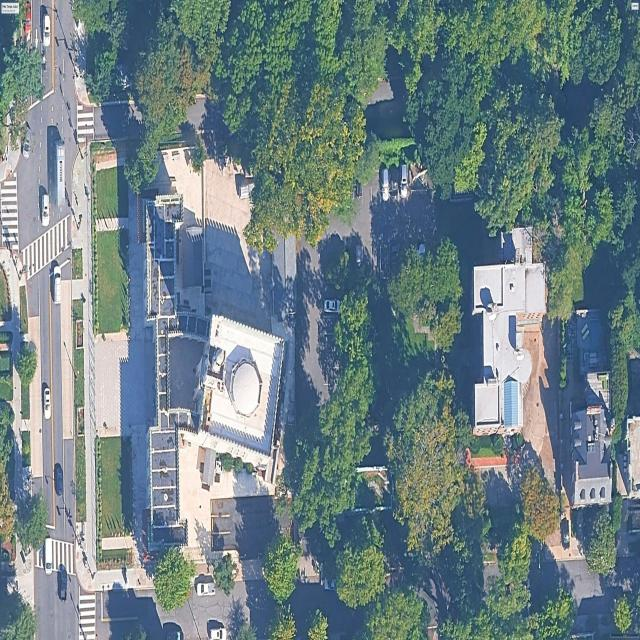Home: (567, 310, 613, 509), (503, 377, 522, 427)
mosque: (143, 195, 285, 545)
